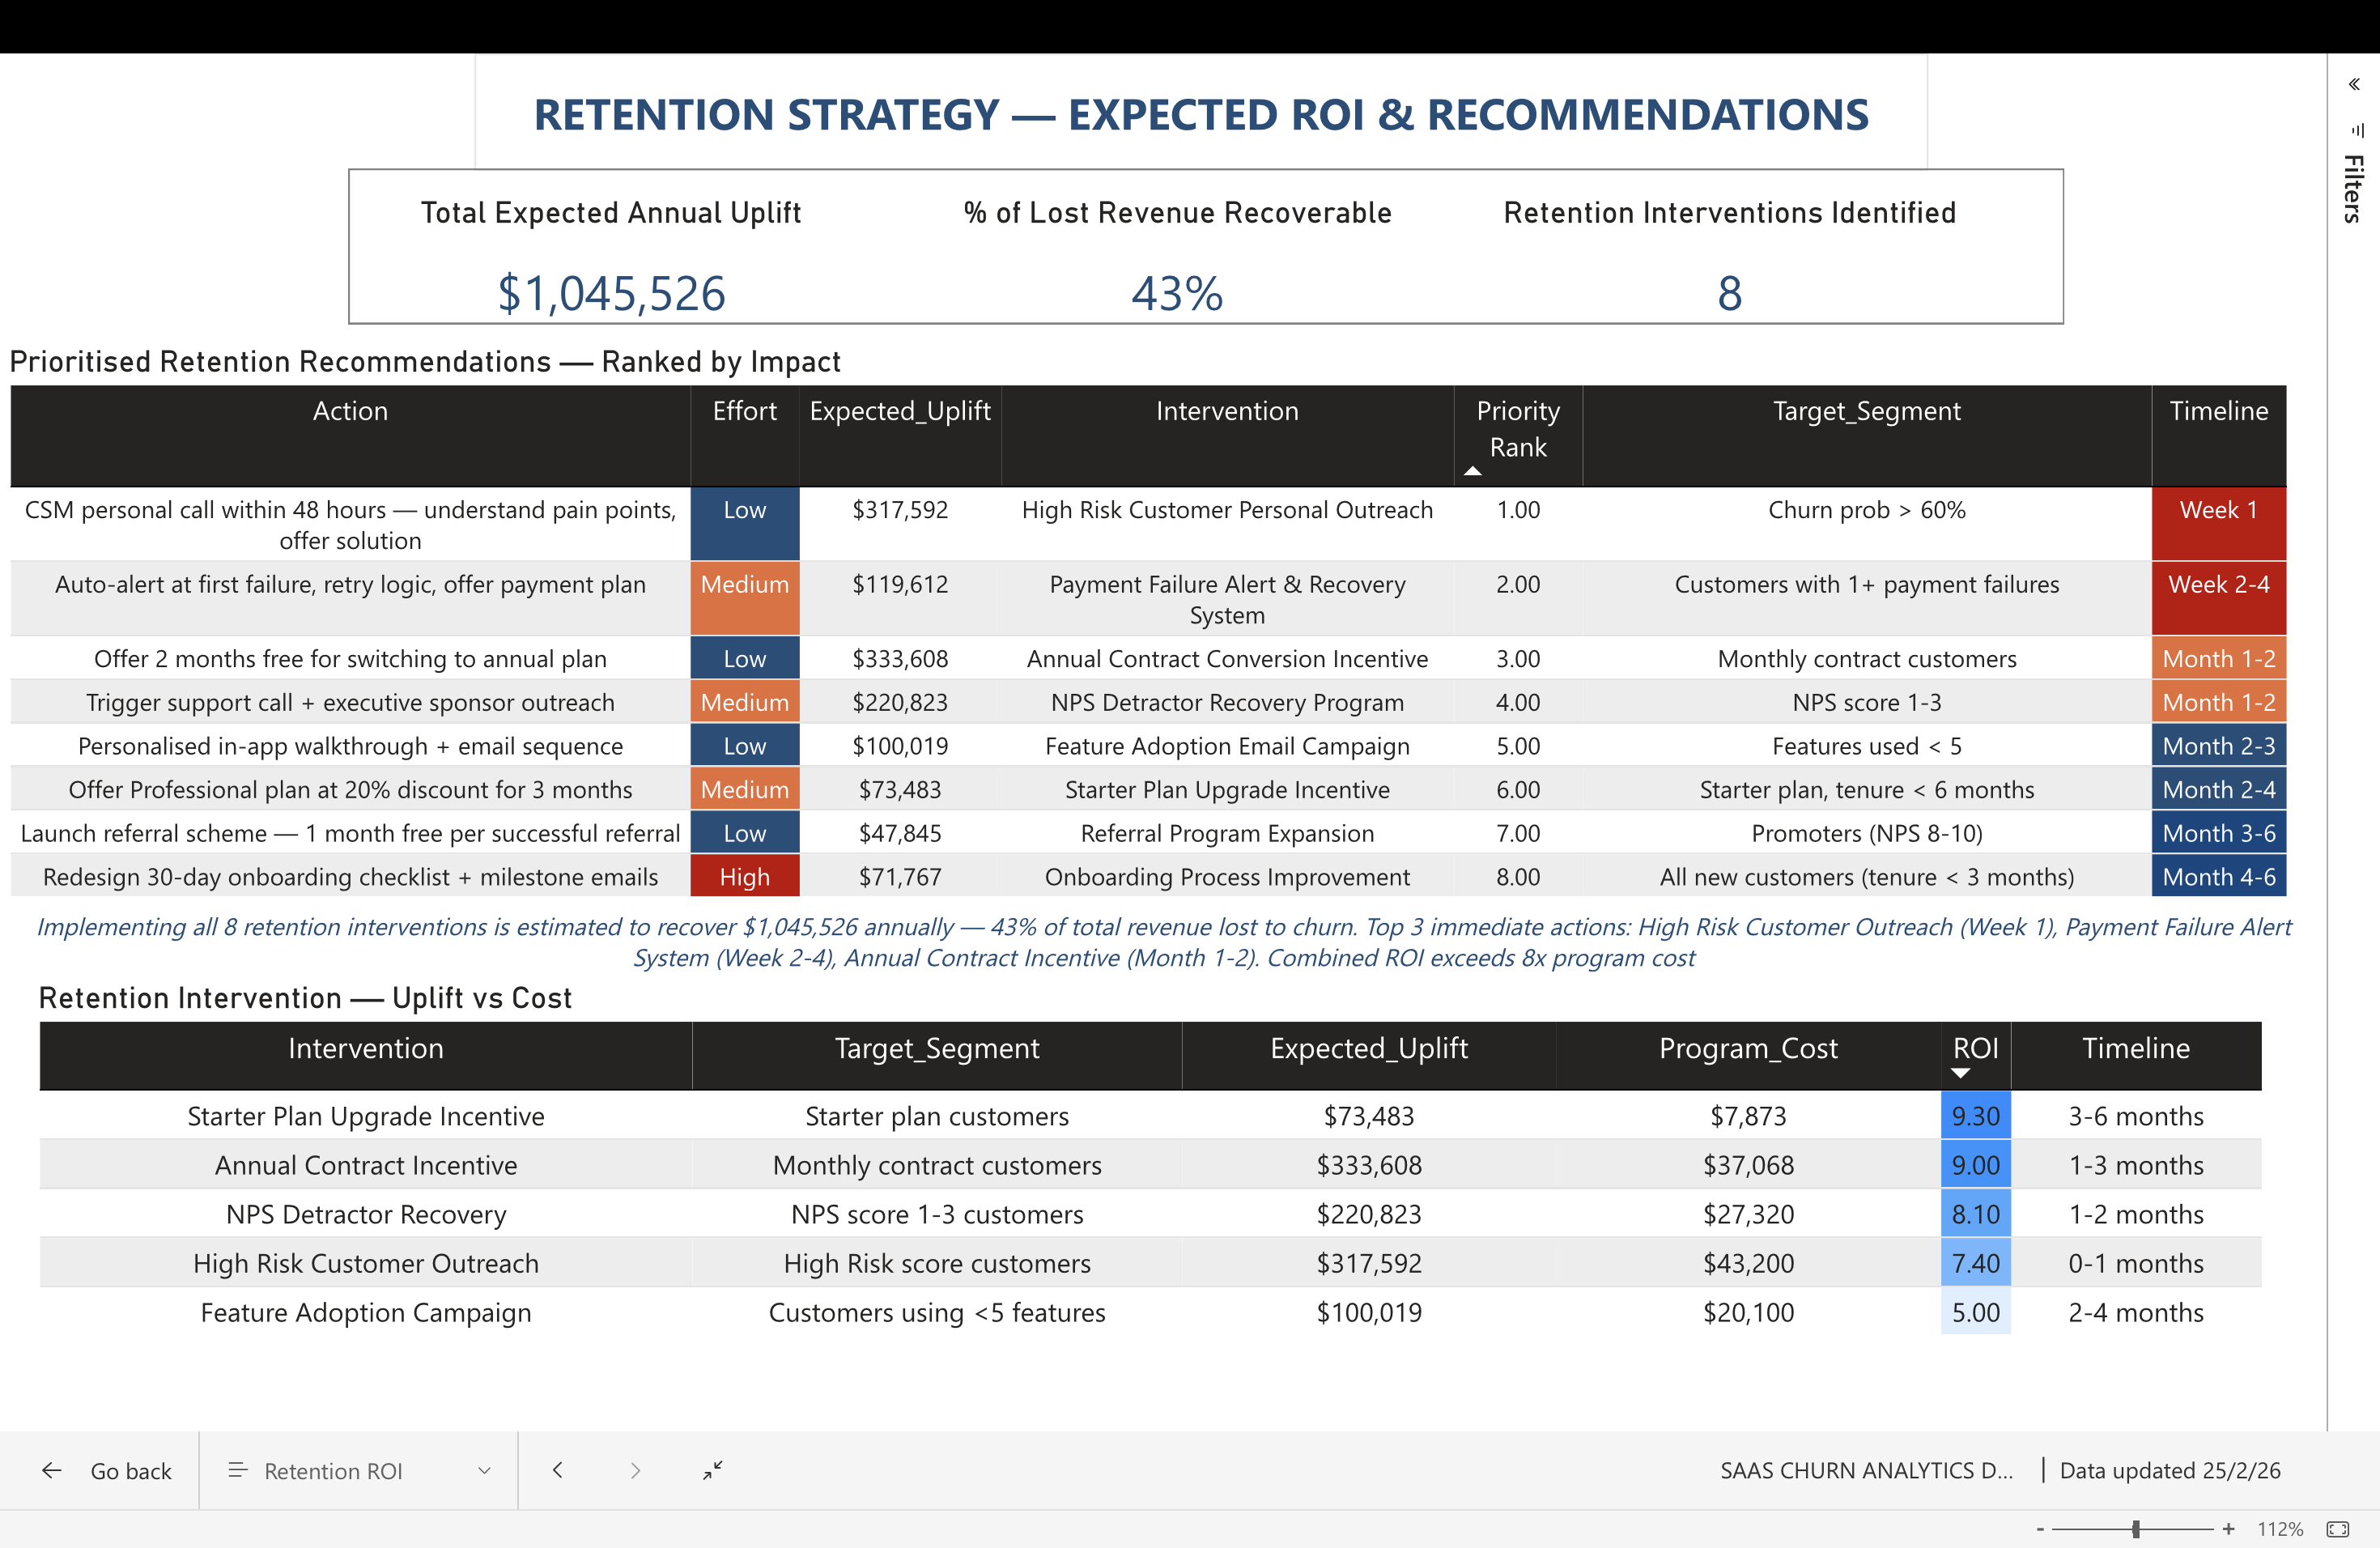

The page's visual inventory and layout, read from the dashboard file:
{"tool":"powerbi","page":{"name":"Retention ROI","canvas":[1280,720],"ordinal":3},"visuals":[{"type":"shape","box":[261.2,0,800.1,64.3],"z":0},{"type":"tableEx","title":"Retention Intervention — Uplift vs Cost","fields":{"Values":["retention_uplift.Intervention","retention_uplift.Target_Segment","retention_uplift.Expected_Uplift_USD","retention_uplift.Program_Cost_USD","Avg(retention_uplift.ROI)","retention_uplift.Timeline"]},"box":[16,512,1248,208],"z":1000},{"type":"tableEx","title":"Prioritised Retention Recommendations — Ranked by Impact","fields":{"Values":["Recommendations.Action","Recommendations.Effort","Recommendations.Expected_Uplift","Recommendations.Intervention","Avg(Recommendations.Priority_Rank)","Recommendations.Target_Segment","Recommendations.Timeline"]},"box":[0,162.5,1280,311.4],"z":2000},{"type":"shape","title":"Total Expected Annual Uplift","box":[176,80,320,80],"z":2001},{"type":"shape","title":"% of Lost Revenue Recoverable","box":[496,80,304,80],"z":2002},{"type":"shape","title":"Retention Interventions Identified","box":[800,80,304,80],"z":2003},{"type":"shape","box":[191.9,63.6,944.4,85.8],"z":2004},{"type":"shape","box":[16,464,1248,48],"z":2005}]}

Visuals, with their boxes on the page's 1280x720 design canvas (x1, y1, x2, y2). These are canvas units, not pixel positions in the 2380x1548 screenshot, which may show the page scaled, cropped or inside an application window:
shape: pyautogui.locateOnScreen(261, 0, 1061, 64)
"Retention Intervention — Uplift vs Cost" tableEx: pyautogui.locateOnScreen(16, 512, 1264, 720)
"Prioritised Retention Recommendations — Ranked by Impact" tableEx: pyautogui.locateOnScreen(0, 162, 1280, 474)
"Total Expected Annual Uplift" shape: pyautogui.locateOnScreen(176, 80, 496, 160)
"% of Lost Revenue Recoverable" shape: pyautogui.locateOnScreen(496, 80, 800, 160)
"Retention Interventions Identified" shape: pyautogui.locateOnScreen(800, 80, 1104, 160)
shape: pyautogui.locateOnScreen(192, 64, 1136, 149)
shape: pyautogui.locateOnScreen(16, 464, 1264, 512)
